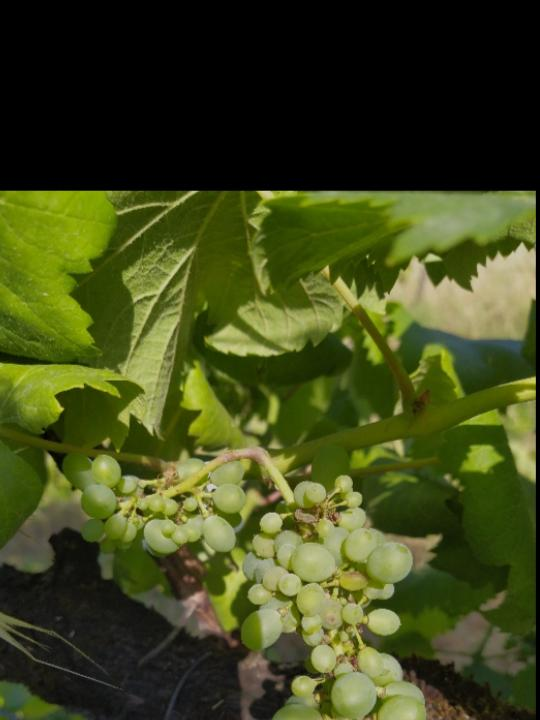grape: (61, 438, 435, 720)
